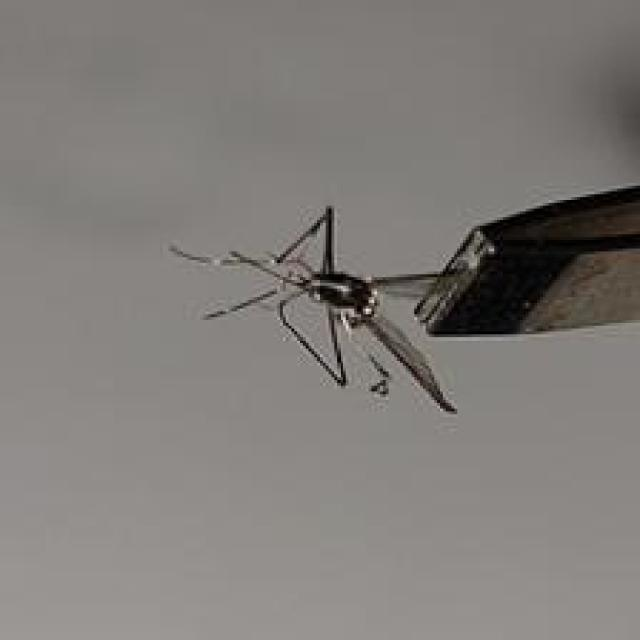Aedes albopictus: (169, 203, 460, 414)
